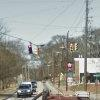Car: (11, 76, 37, 99)
